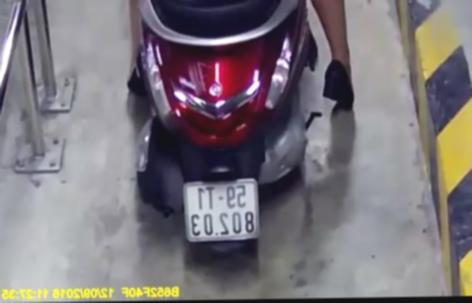License_Plate: (179, 174, 267, 251)
